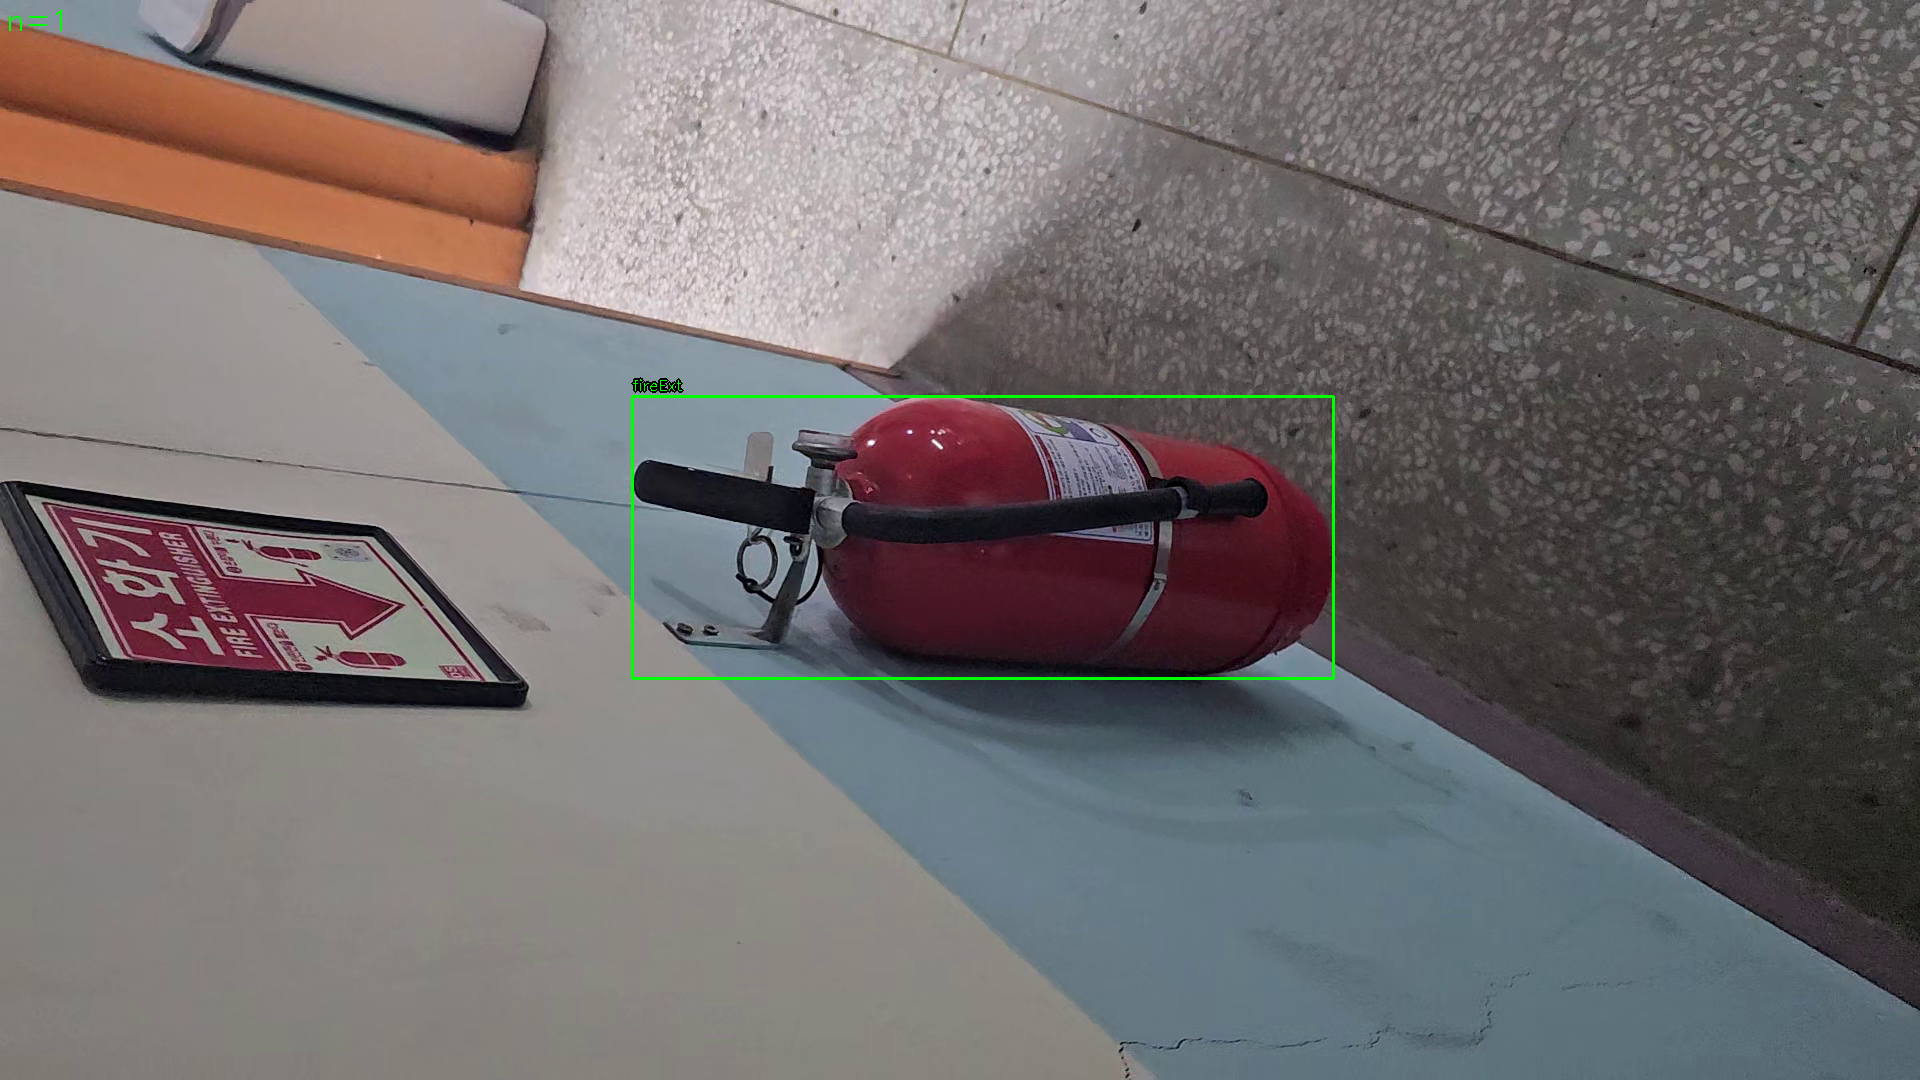lane: (632, 396, 1335, 679)
